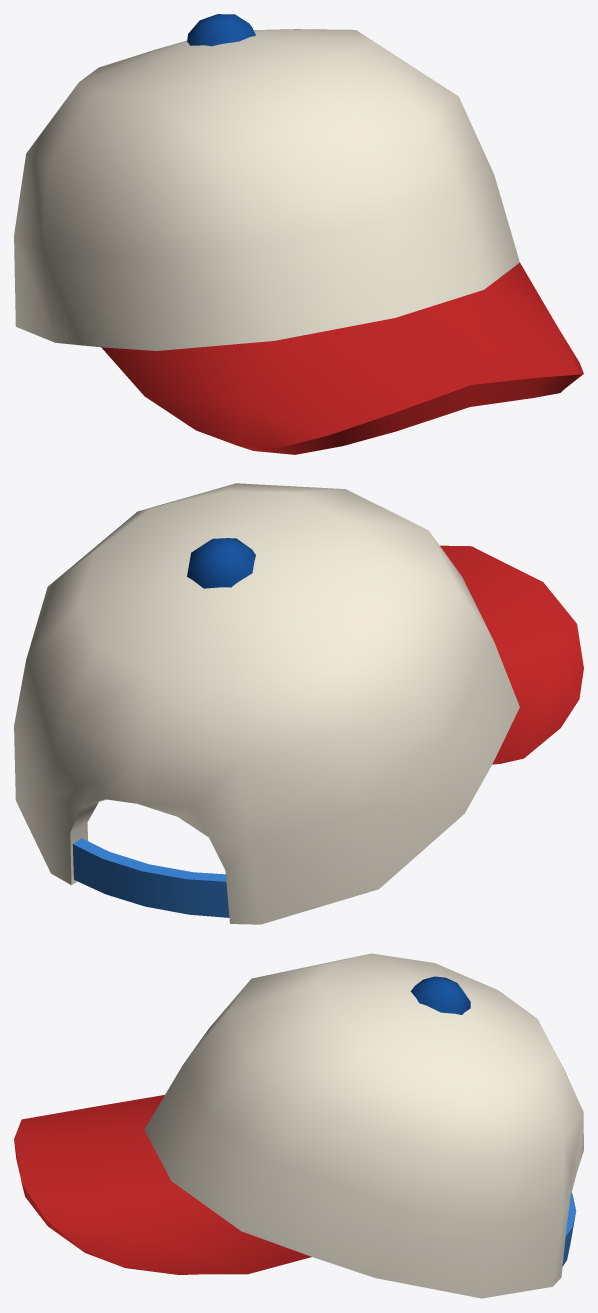
File: Headgear_1.fbx
3 views of the same model, one above another, from view 1: azimuth 30°, elevation 25°; view 2: azimuth 150°, elevation 25°; view 3: azimuth 270°, elevation 25° (orthographic). The views are drawn at different scales.
Visible parts, largest first — view 1: Headgear_1; view 2: Headgear_1; view 3: Headgear_1.
Boxes of the visible parts, <box> form: Headgear_1: <box>14,14,583,454</box>; Headgear_1: <box>14,483,583,924</box>; Headgear_1: <box>14,953,583,1298</box>.
Size of the model in its own units: 73.93 by 53.53 by 104.
